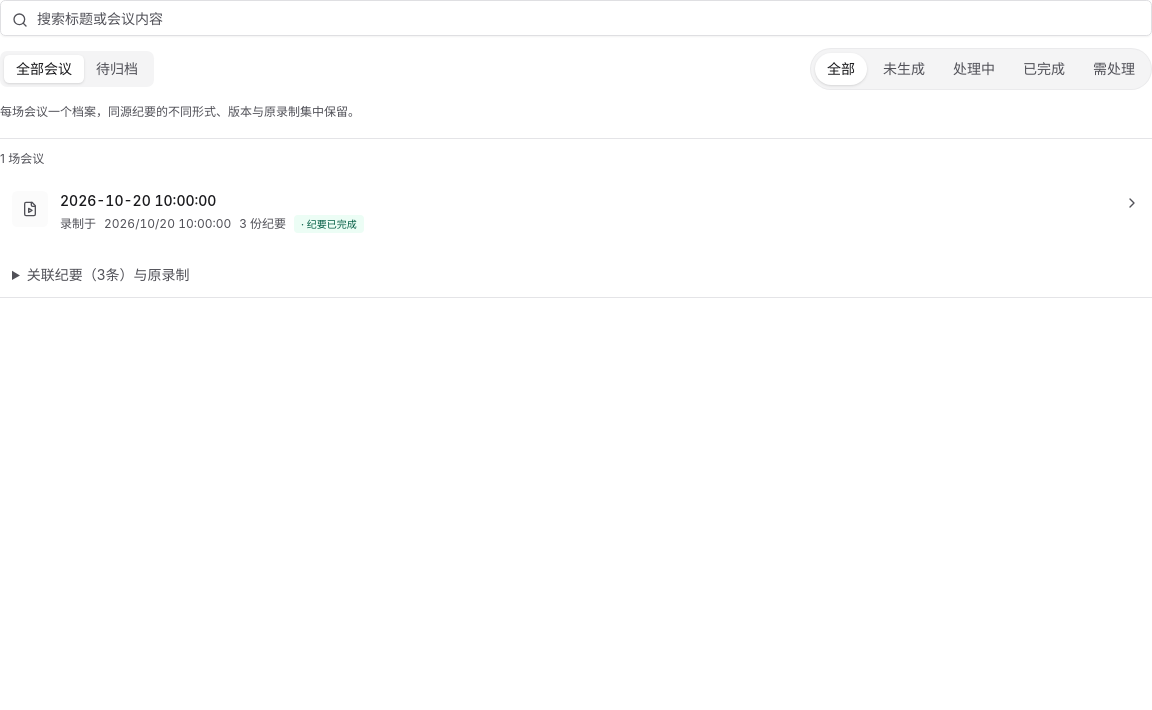
Test: keeps missing, transport and wrong-task metadata unknown without guessing from the body or title
Click the heading "关联纪要（3条）与原录制".
click(108, 274)  # box [27, 266, 190, 283]
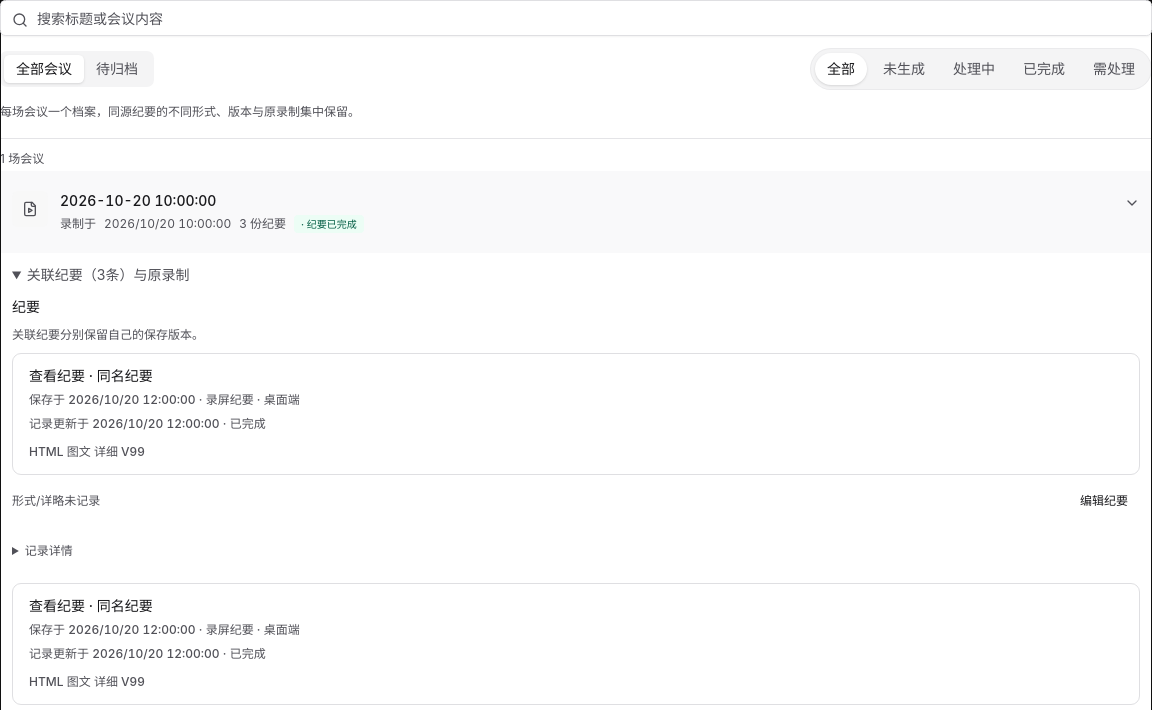
Result: the text "形式/详略未记录" is shown at [12, 493, 100, 509]
